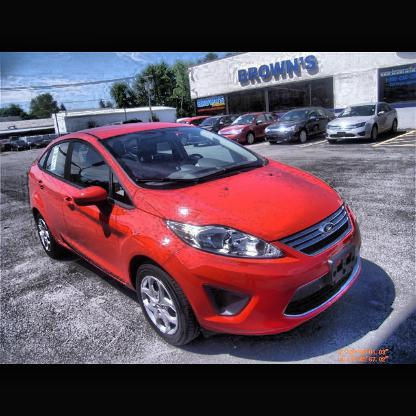Ford Fiesta Sedan 2012: (29, 124, 364, 346)
